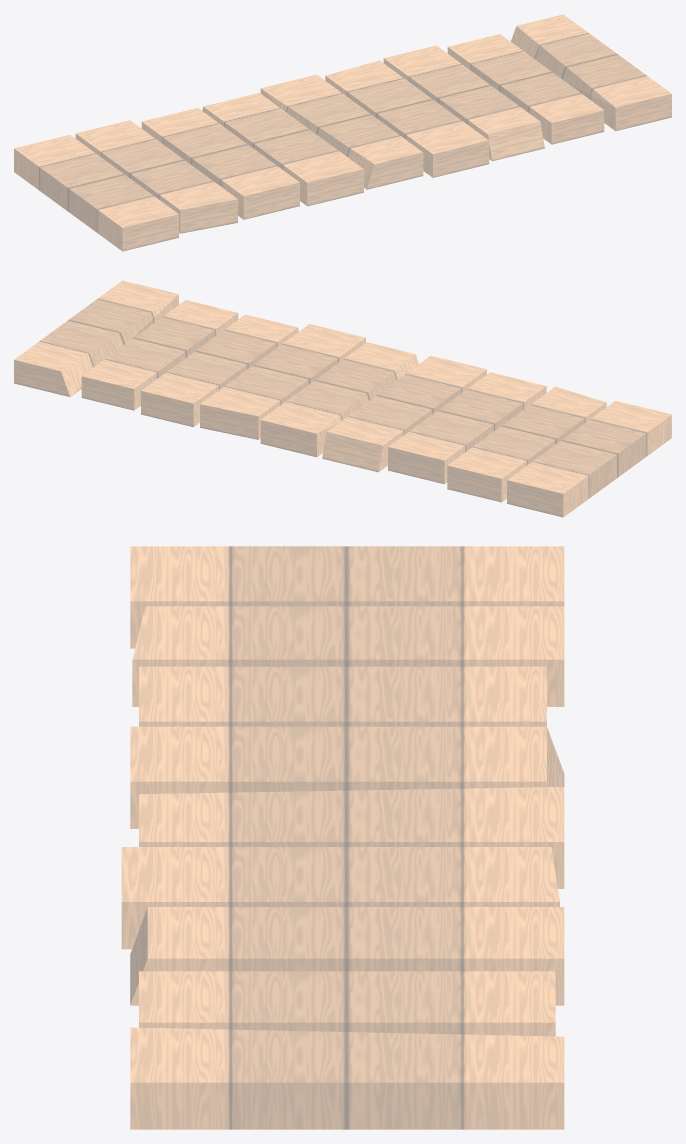
File: level.gltf
3 renders of one model, top to bottom at view 1: azimuth 30°, elevation 25°; view 2: azimuth 150°, elevation 25°; view 3: azimuth 270°, elevation 25°, orthographic. The views are drawn at different scales.
Parts seen in each view (by area): view 1: P_Modul_29_Platte01, P_Modul_29_Platte09, P_Modul_29_Platte06, P_Modul_29_Platte05, P_Modul_29_Platte03, P_Modul_29_Platte04, P_Modul_29_Platte02, P_Modul_29_Platte07, P_Modul_29_Platte08; view 2: P_Modul_29_Platte01, P_Modul_29_Platte09, P_Modul_29_Platte04, P_Modul_29_Platte06, P_Modul_29_Platte05, P_Modul_29_Platte03, P_Modul_29_Platte02, P_Modul_29_Platte08, P_Modul_29_Platte07; view 3: P_Modul_29_Platte09, P_Modul_29_Platte07, P_Modul_29_Platte04, P_Modul_29_Platte02, P_Modul_29_Platte01, P_Modul_29_Platte06, P_Modul_29_Platte08, P_Modul_29_Platte03, P_Modul_29_Platte05.
Boxes of the visible parts, x1,y1,x2,y2 form: P_Modul_29_Platte01: [14, 134, 178, 251]; P_Modul_29_Platte09: [511, 14, 671, 131]; P_Modul_29_Platte06: [325, 60, 489, 177]; P_Modul_29_Platte05: [260, 74, 423, 189]; P_Modul_29_Platte03: [141, 108, 299, 219]; P_Modul_29_Platte04: [202, 93, 363, 206]; P_Modul_29_Platte02: [75, 120, 237, 233]; P_Modul_29_Platte07: [383, 45, 544, 161]; P_Modul_29_Platte08: [447, 34, 604, 144]; P_Modul_29_Platte01: [507, 400, 671, 517]; P_Modul_29_Platte09: [14, 280, 178, 397]; P_Modul_29_Platte04: [322, 355, 486, 472]; P_Modul_29_Platte06: [200, 324, 365, 439]; P_Modul_29_Platte05: [260, 342, 418, 457]; P_Modul_29_Platte03: [388, 372, 546, 484]; P_Modul_29_Platte02: [447, 386, 606, 502]; P_Modul_29_Platte08: [81, 300, 238, 410]; P_Modul_29_Platte07: [141, 314, 298, 427]; P_Modul_29_Platte09: [130, 1027, 564, 1129]; P_Modul_29_Platte07: [130, 907, 564, 1005]; P_Modul_29_Platte04: [130, 726, 564, 828]; P_Modul_29_Platte02: [132, 606, 564, 706]; P_Modul_29_Platte01: [130, 546, 564, 648]; P_Modul_29_Platte06: [121, 847, 559, 949]; P_Modul_29_Platte08: [139, 971, 555, 1036]; P_Modul_29_Platte03: [139, 666, 546, 726]; P_Modul_29_Platte05: [139, 787, 564, 888].
Size of the model in its own units: 14.61 by 0.6 by 5.1.
Materials: 1 (1 with a texture image).
